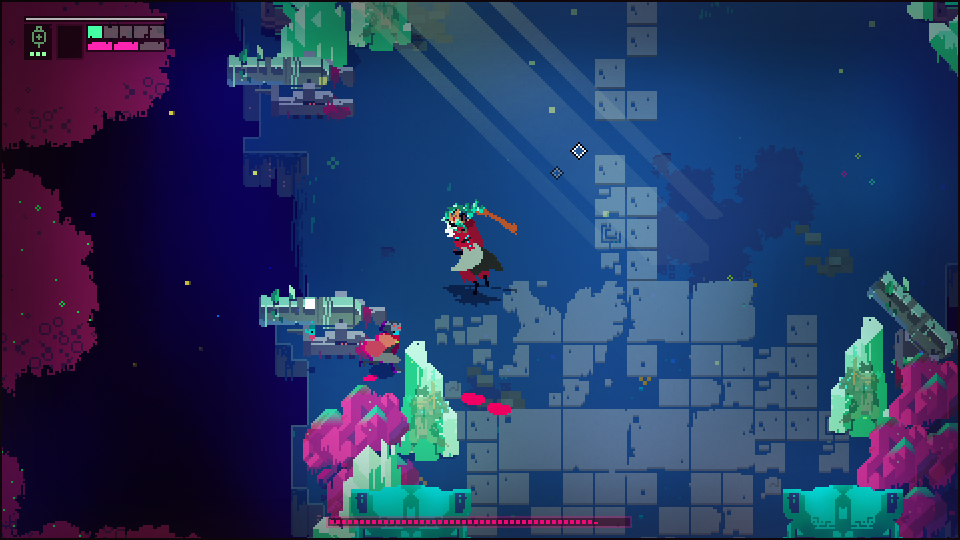hanged_man: (438, 199, 520, 298)
player: (359, 320, 408, 372)
